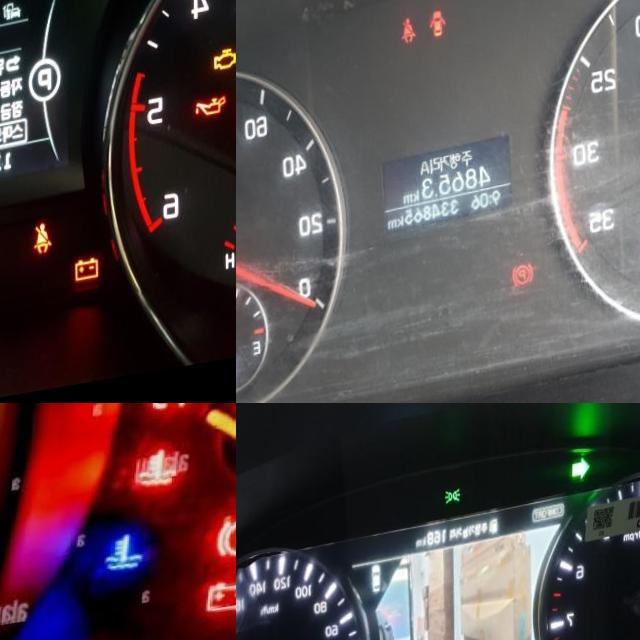Doors: (430, 16, 449, 47)
Engine cooling system: (105, 528, 147, 579), (138, 447, 182, 495)
SideLamp: (446, 496, 463, 514)
